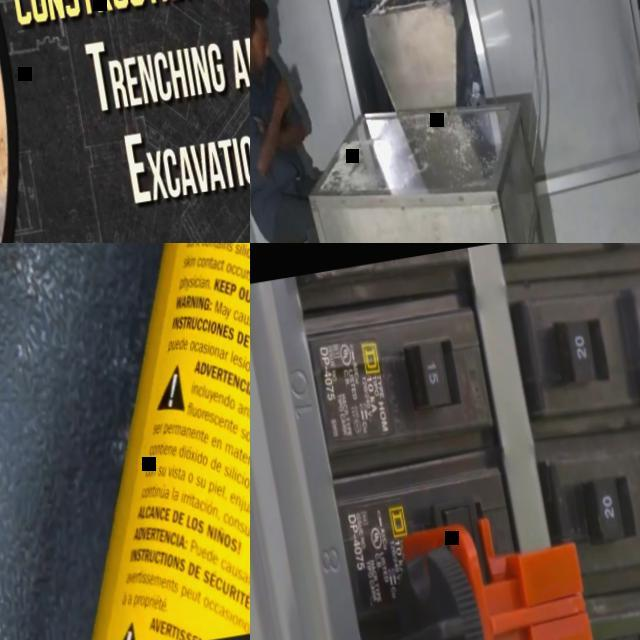no_helmet: (250, 0, 272, 33)
no_mask: (250, 49, 269, 73)
no_vest: (250, 59, 311, 193)
person: (250, 0, 356, 243)
